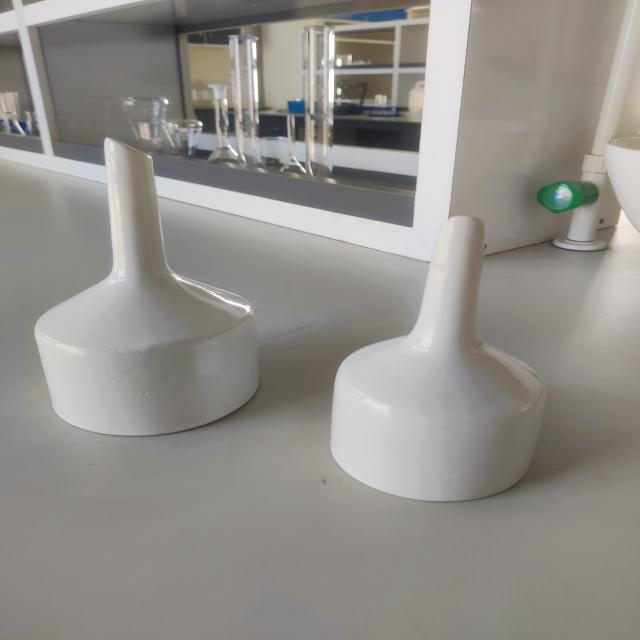Buchner_Funnel: (11, 119, 289, 469), (318, 192, 564, 517)
